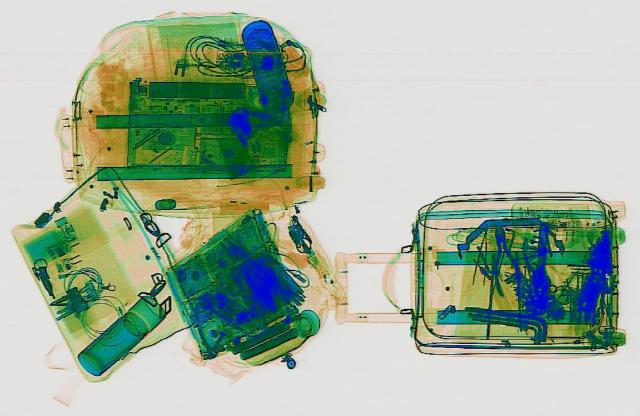Pliers: (484, 223, 524, 296)
